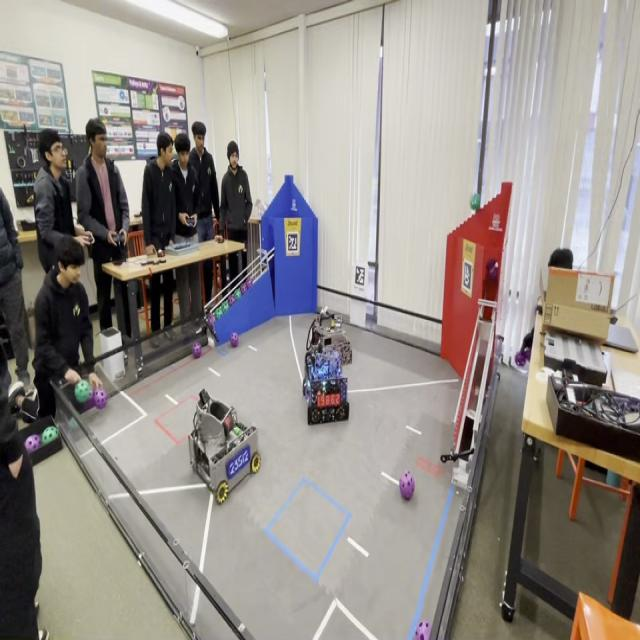artifact_green: (74, 380, 91, 404), (94, 388, 108, 410), (42, 426, 58, 444), (470, 192, 480, 210), (192, 343, 202, 359), (230, 332, 239, 348), (69, 418, 79, 429), (234, 288, 241, 299), (216, 307, 223, 318), (228, 296, 235, 306), (220, 304, 225, 317), (234, 427, 241, 436), (223, 302, 229, 312), (241, 283, 247, 293)
artifact_purple: (400, 471, 414, 500), (74, 380, 90, 404), (415, 620, 431, 639), (25, 434, 41, 452), (94, 388, 107, 410), (515, 349, 530, 367), (487, 259, 498, 282), (85, 390, 94, 408), (86, 388, 94, 408), (515, 351, 525, 367), (207, 313, 215, 330), (230, 332, 239, 347), (193, 343, 201, 359), (524, 349, 531, 361), (88, 388, 94, 401), (234, 288, 241, 299), (229, 296, 235, 306), (241, 284, 247, 293), (246, 278, 252, 287)
